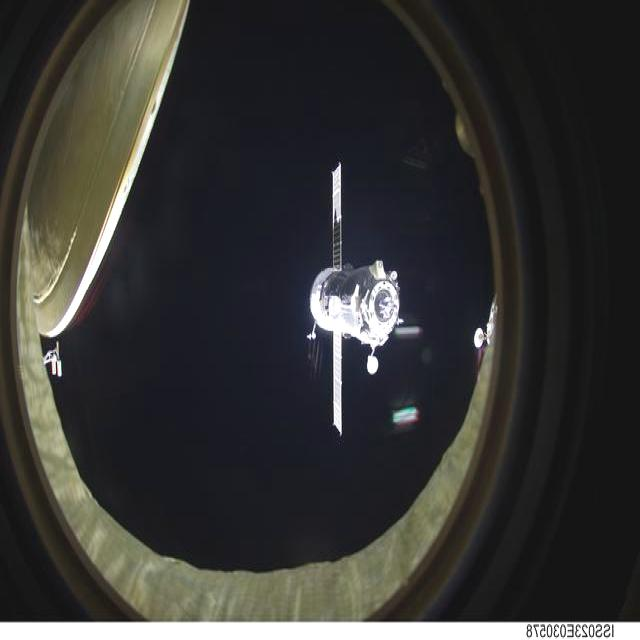medium_debris: (310, 165, 400, 433)
